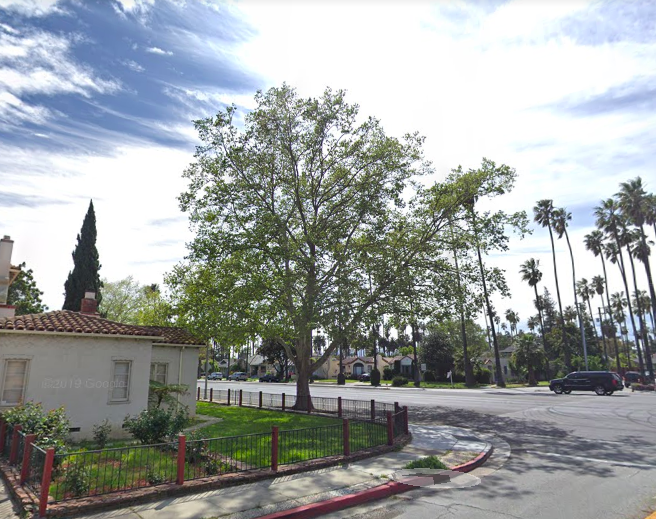tree: (155, 80, 533, 412)
